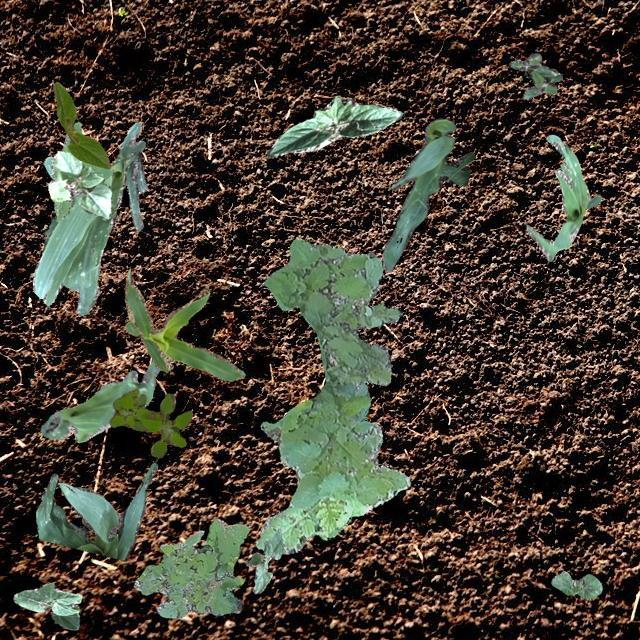crop: (32, 122, 146, 314), (382, 117, 474, 270), (124, 268, 244, 380), (35, 462, 156, 560), (40, 361, 158, 442), (526, 133, 600, 260), (266, 95, 402, 156), (52, 81, 110, 168), (48, 150, 110, 218), (13, 582, 80, 628), (244, 528, 282, 592), (550, 570, 602, 600)
weed: (255, 238, 410, 552), (134, 518, 248, 616), (44, 120, 112, 222), (108, 388, 192, 457), (508, 52, 562, 98), (158, 530, 202, 552)
